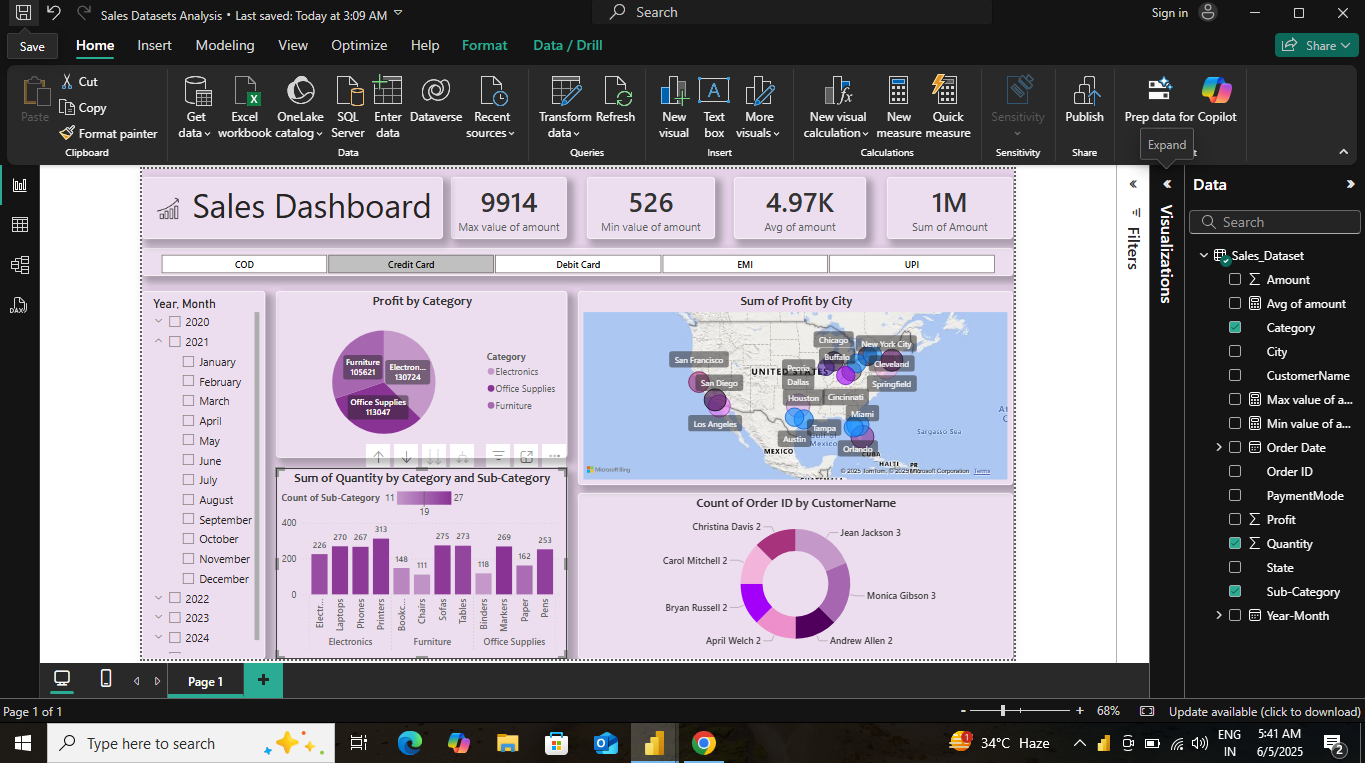

This screenshot's page, from the dashboard's own definition file:
{"tool":"powerbi","page":{"name":"Page 1","canvas":[1280,720],"ordinal":0},"visuals":[{"type":"clusteredColumnChart","fields":{"Category":["Sales_Dataset.Category","Sales_Dataset.Sub-Category"],"Y":["Sales_Dataset.Quantity"]},"box":[196.9,439.3,427.6,280.7],"z":0},{"type":"pieChart","title":"Profit by Category","fields":{"Y":["Sales_Dataset.Profit"],"Category":["Sales_Dataset.Category"]},"box":[196.9,179.3,427.6,245.4],"z":1000},{"type":"slicer","fields":{"Values":["Sales_Dataset.Year-Month.Variation.Date Hierarchy.Year","Sales_Dataset.Year-Month.Variation.Date Hierarchy.Month"]},"box":[0,179.3,180.7,540.7],"z":2000},{"type":"card","fields":{"Values":["Sales_Dataset.max value of amount"]},"box":[454,11.8,170.4,91.1],"z":3000},{"type":"card","fields":{"Values":["Sales_Dataset.Min value of amount"]},"box":[653.9,11.8,188.1,91.1],"z":4000},{"type":"card","fields":{"Values":["Sales_Dataset.Avg of amount"]},"box":[869.9,11.8,194,91.1],"z":5000},{"type":"card","fields":{"Values":["Sales_Dataset.Amount"]},"box":[1094.7,11.8,185.1,91.1],"z":6000},{"type":"slicer","fields":{"Values":["Sales_Dataset.PaymentMode"]},"box":[0,116.1,1279.8,41.1],"z":7000},{"type":"map","fields":{"Category":["Sales_Dataset.City"],"Size":["Sales_Dataset.Profit"],"Series":["Sales_Dataset.City"]},"box":[640.7,179.3,639.2,285.1],"z":7001},{"type":"donutChart","fields":{"Y":["Sales_Dataset.Order ID"],"Category":["Sales_Dataset.CustomerName"]},"box":[640.7,476.1,639.2,243.9],"z":7002},{"type":"textbox","box":[0,11.8,442.3,91.1],"z":7003},{"type":"image","box":[0,11.8,76.4,91.1],"z":7004}]}

Visuals, with their boxes on the page's 1280x720 design canvas (x1, y1, x2, y2). These are canvas units, not pixel positions in the 1365x763 screenshot, which may show the page scaled, cropped or inside an application window:
clusteredColumnChart - Sales_Dataset.Category x Sales_Dataset.Sub-Category: (left=197, top=439, right=624, bottom=720)
"Profit by Category" pieChart: (left=197, top=179, right=624, bottom=425)
slicer - Sales_Dataset.Year-Month.Variation.Date Hierarchy.Year x Sales_Dataset.Year-Month.Variation.Date Hierarchy.Month: (left=0, top=179, right=181, bottom=720)
card - Sales_Dataset.max value of amount: (left=454, top=12, right=624, bottom=103)
card - Sales_Dataset.Min value of amount: (left=654, top=12, right=842, bottom=103)
card - Sales_Dataset.Avg of amount: (left=870, top=12, right=1064, bottom=103)
card - Sales_Dataset.Amount: (left=1095, top=12, right=1280, bottom=103)
slicer - Sales_Dataset.PaymentMode: (left=0, top=116, right=1280, bottom=157)
map - Sales_Dataset.City x Sales_Dataset.Profit: (left=641, top=179, right=1280, bottom=464)
donutChart - Sales_Dataset.Order ID x Sales_Dataset.CustomerName: (left=641, top=476, right=1280, bottom=720)
textbox: (left=0, top=12, right=442, bottom=103)
image: (left=0, top=12, right=76, bottom=103)
